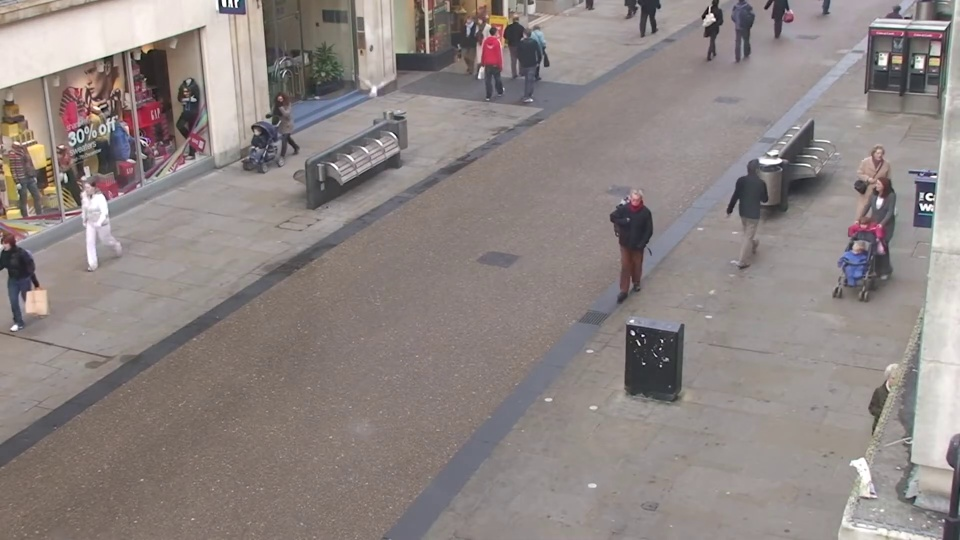pedestrian: (827, 235, 877, 363), (62, 175, 113, 283), (852, 177, 898, 290), (849, 144, 892, 249), (612, 193, 650, 311), (737, 152, 775, 258), (236, 123, 273, 218), (260, 90, 293, 177), (877, 1, 912, 73), (515, 24, 539, 94), (485, 23, 509, 93), (527, 20, 551, 89), (507, 11, 531, 78), (467, 13, 491, 80), (455, 13, 479, 80)
